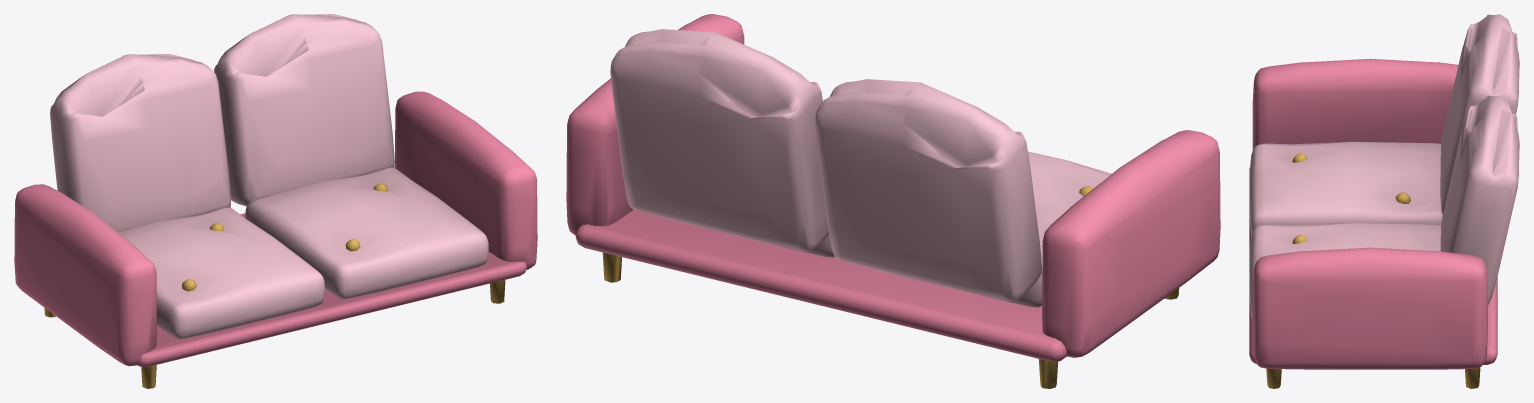
Rendered from sofa-blush.glb.
3 views of the same model, side by side, from view 1: azimuth 30°, elevation 25°; view 2: azimuth 150°, elevation 25°; view 3: azimuth 270°, elevation 25° (orthographic). The views are drawn at different scales.
Parts seen in each view (by area): view 1: sofa-blush; view 2: sofa-blush; view 3: sofa-blush.
Boxes of the visible parts, <box> form: sofa-blush: <box>14,14,537,388</box>; sofa-blush: <box>566,14,1220,388</box>; sofa-blush: <box>1249,14,1519,388</box>.
Bounding box in the file's own units: 1.59 × 0.8229 × 0.8716.
